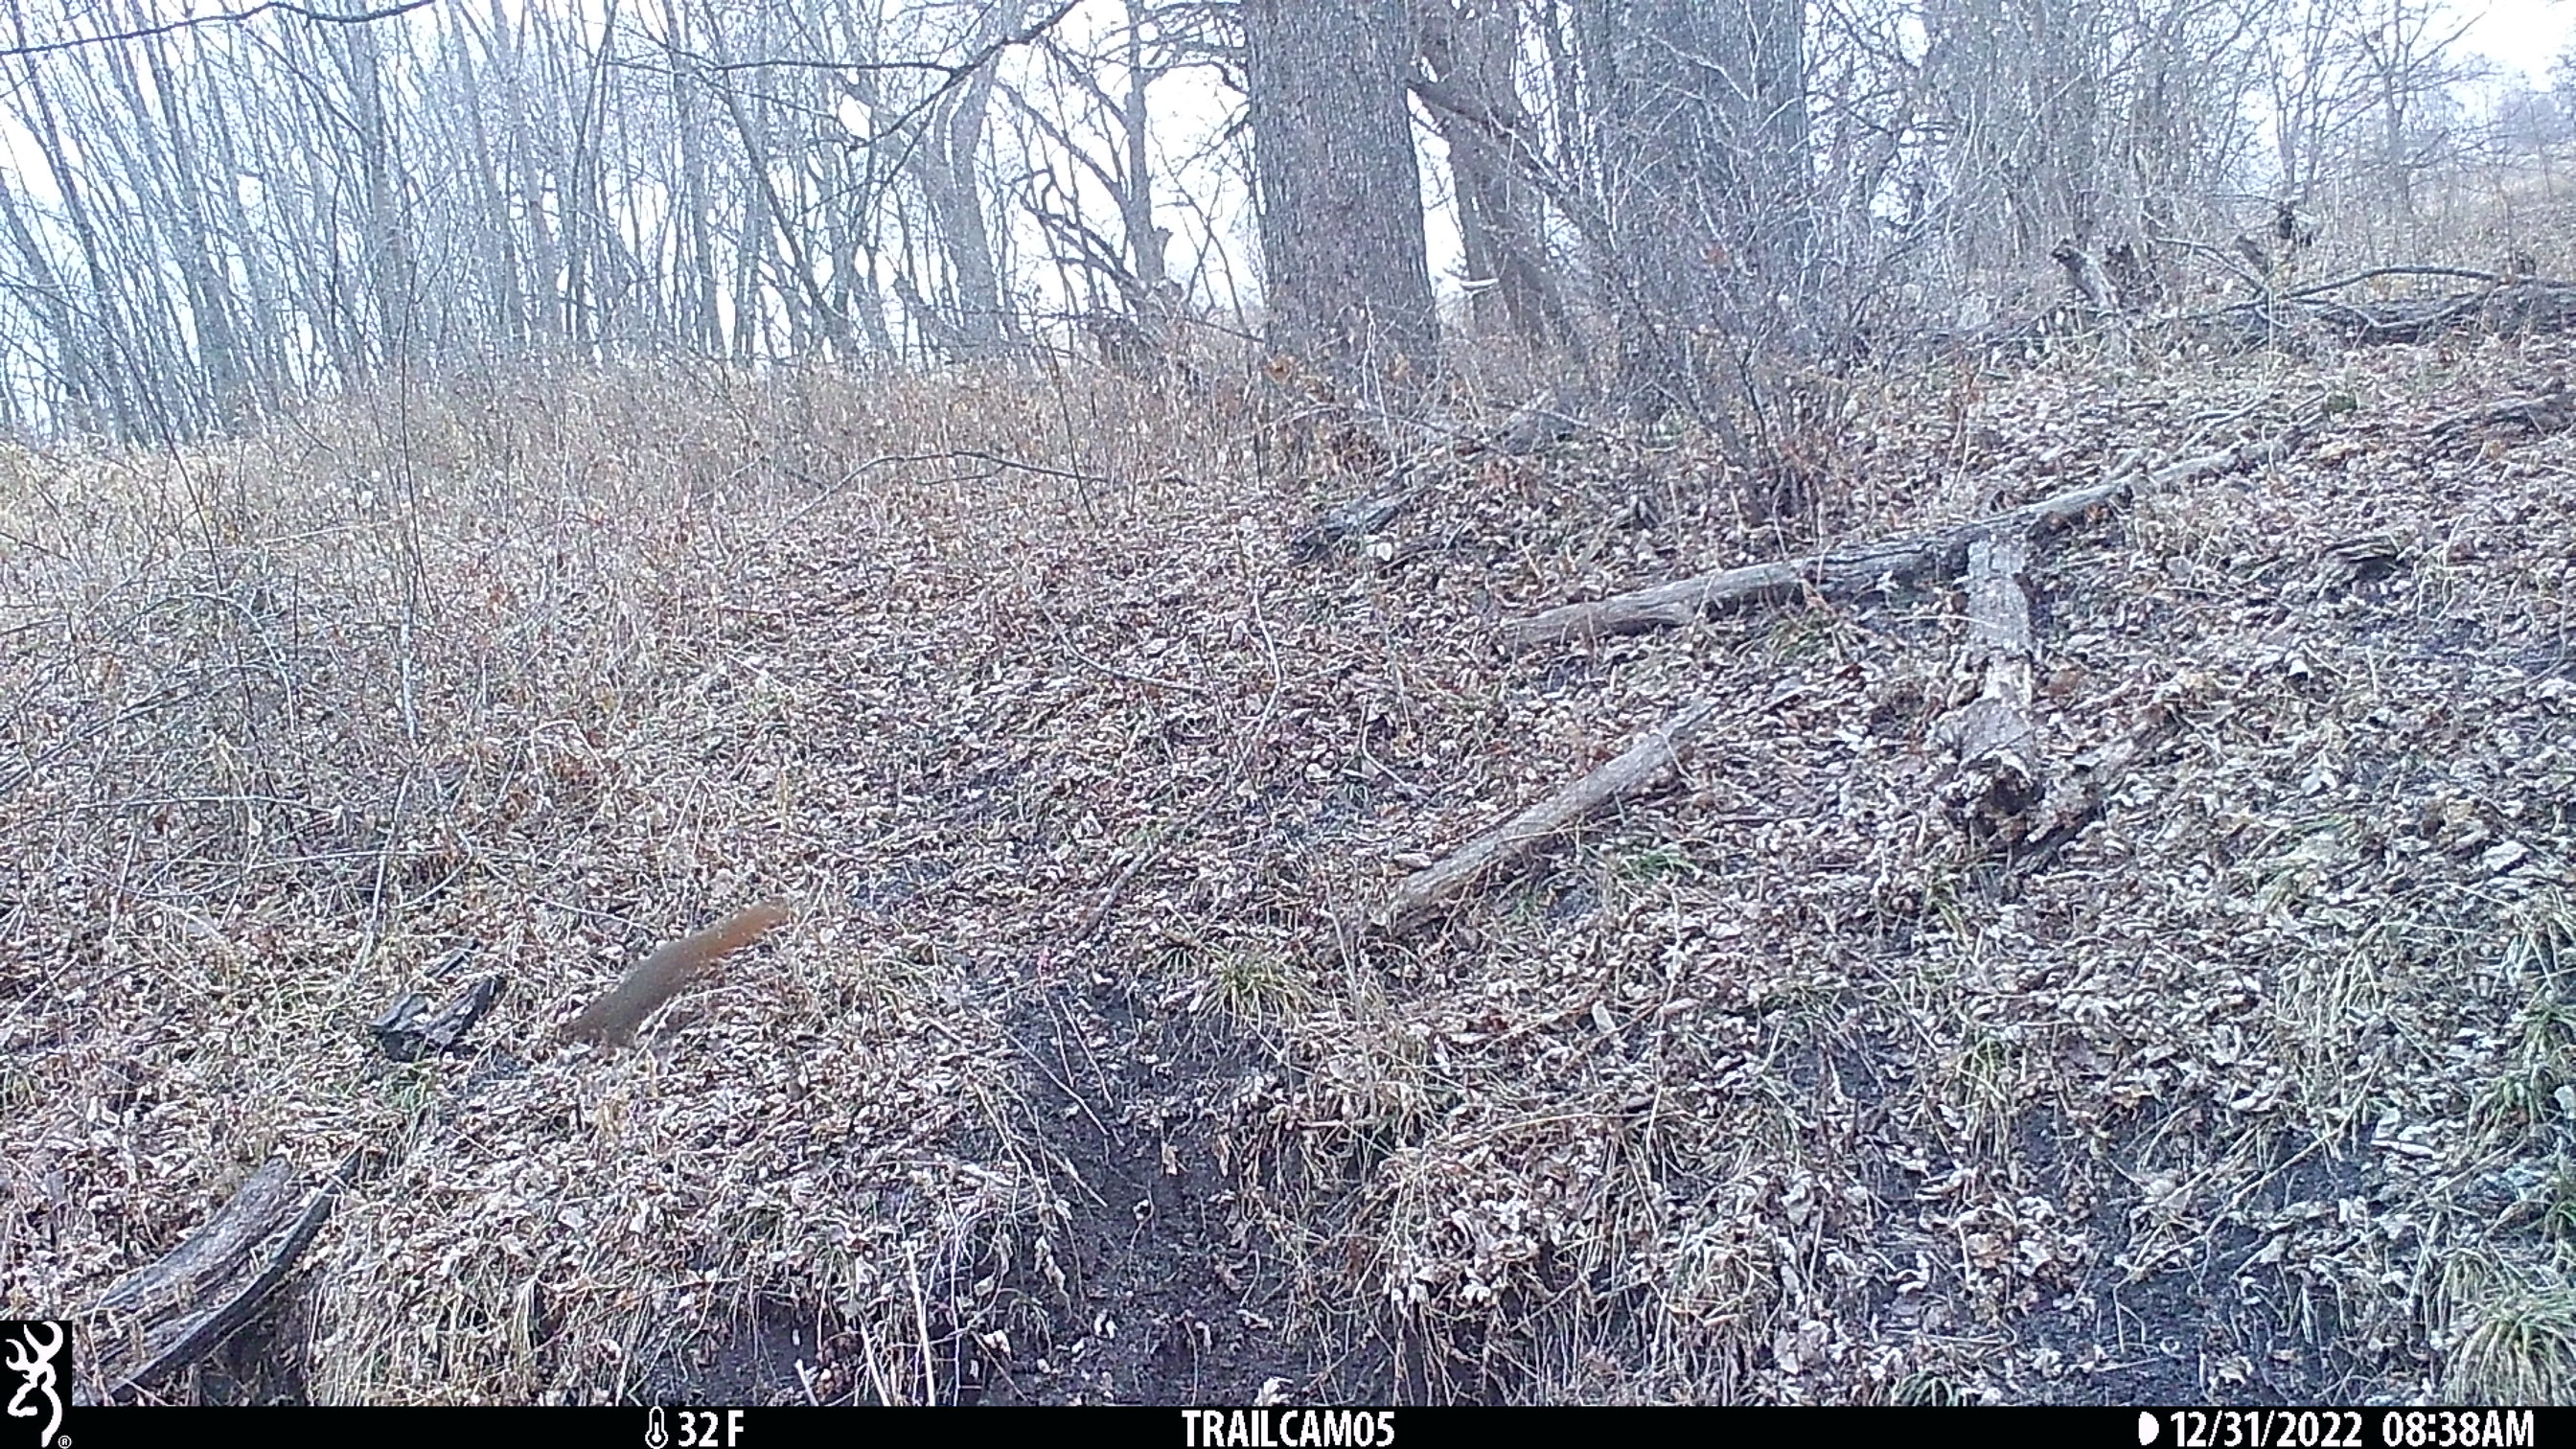Squirrel: (564, 899, 793, 1051)
